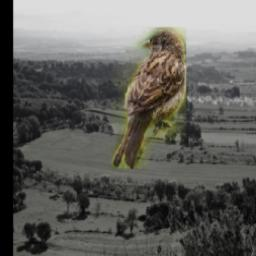Sparrow: (111, 27, 186, 169)
